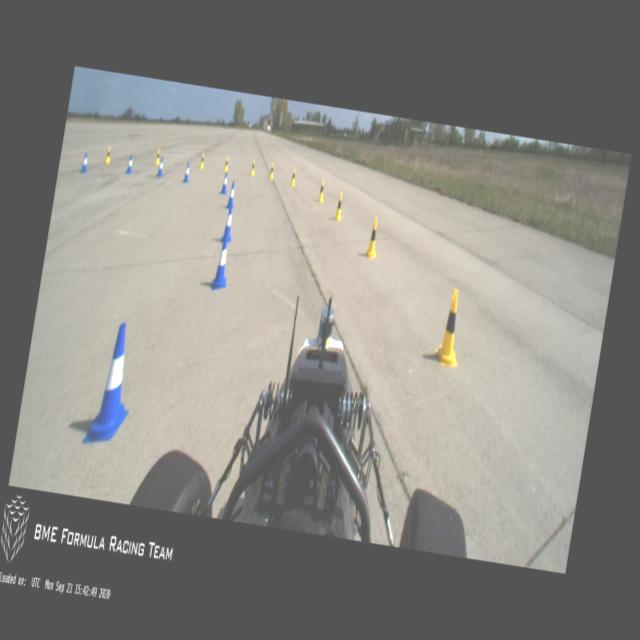blue_cone: (82, 321, 141, 450), (211, 232, 234, 290), (220, 204, 237, 242), (225, 182, 238, 210), (220, 170, 230, 194), (182, 162, 192, 184), (157, 158, 165, 177), (126, 156, 134, 175), (80, 154, 88, 172)
yellow_cone: (433, 286, 469, 367), (365, 216, 382, 259), (334, 190, 345, 222), (317, 178, 326, 204), (268, 162, 276, 182), (290, 168, 297, 186), (105, 148, 112, 164), (223, 157, 230, 173), (155, 150, 161, 166), (200, 153, 206, 169), (250, 160, 256, 176)
